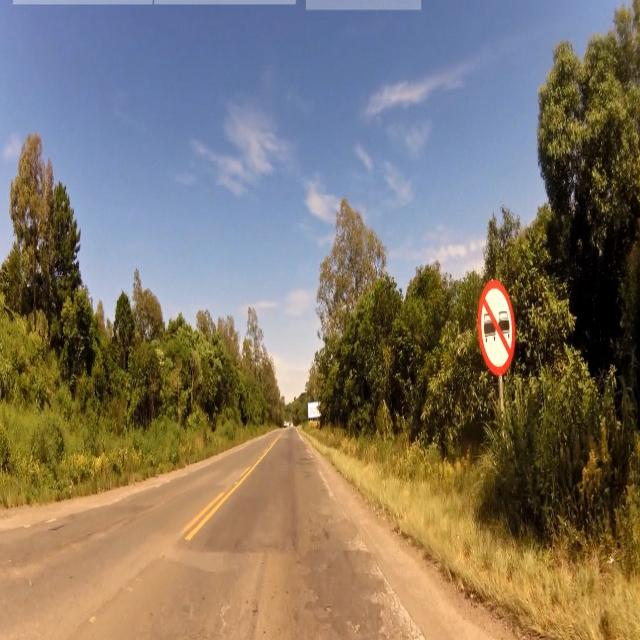R-7: (476, 278, 516, 375)
